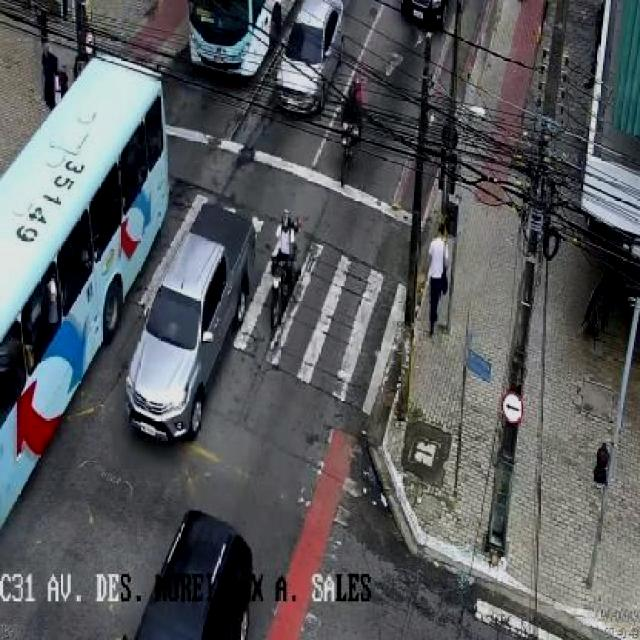Bus: (0, 48, 171, 534), (185, 0, 304, 81)
Car: (120, 511, 253, 640), (271, 0, 345, 118), (396, 0, 465, 30)
Cycle: (266, 240, 294, 336), (336, 102, 362, 185)
Truck: (122, 201, 256, 441)
